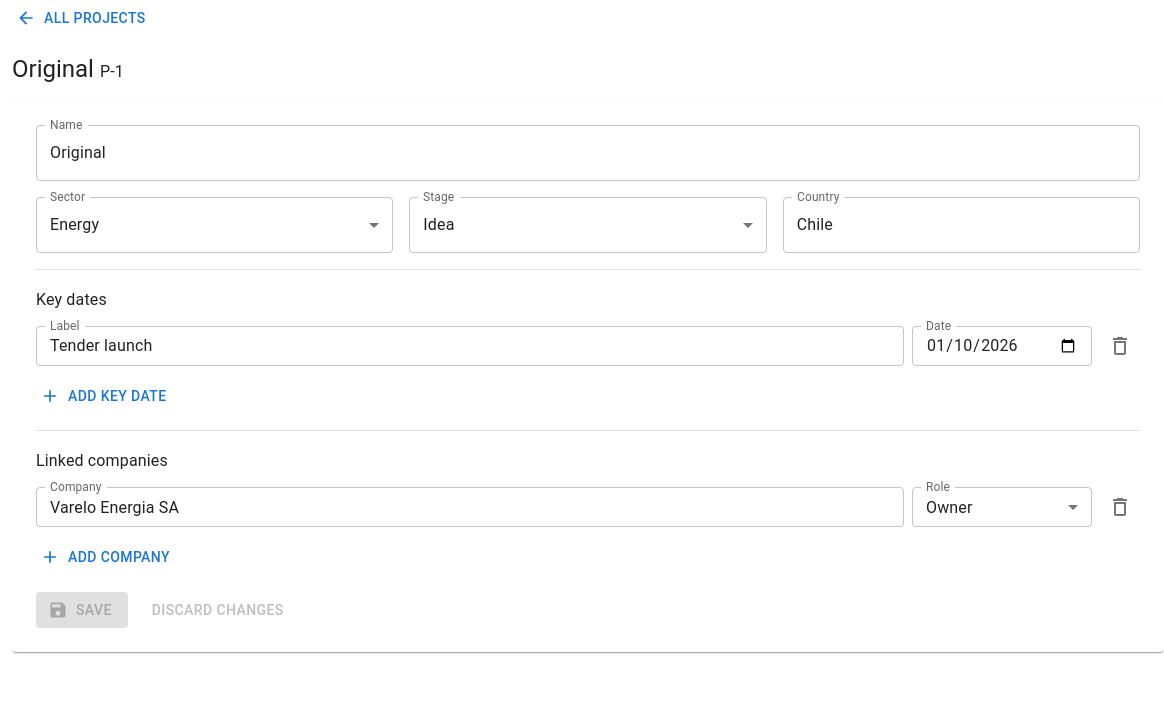
saves base and proposed
Replace the text in the field labelled "Name" with "Renamed" at (588, 152), box [36,124,1140,180]
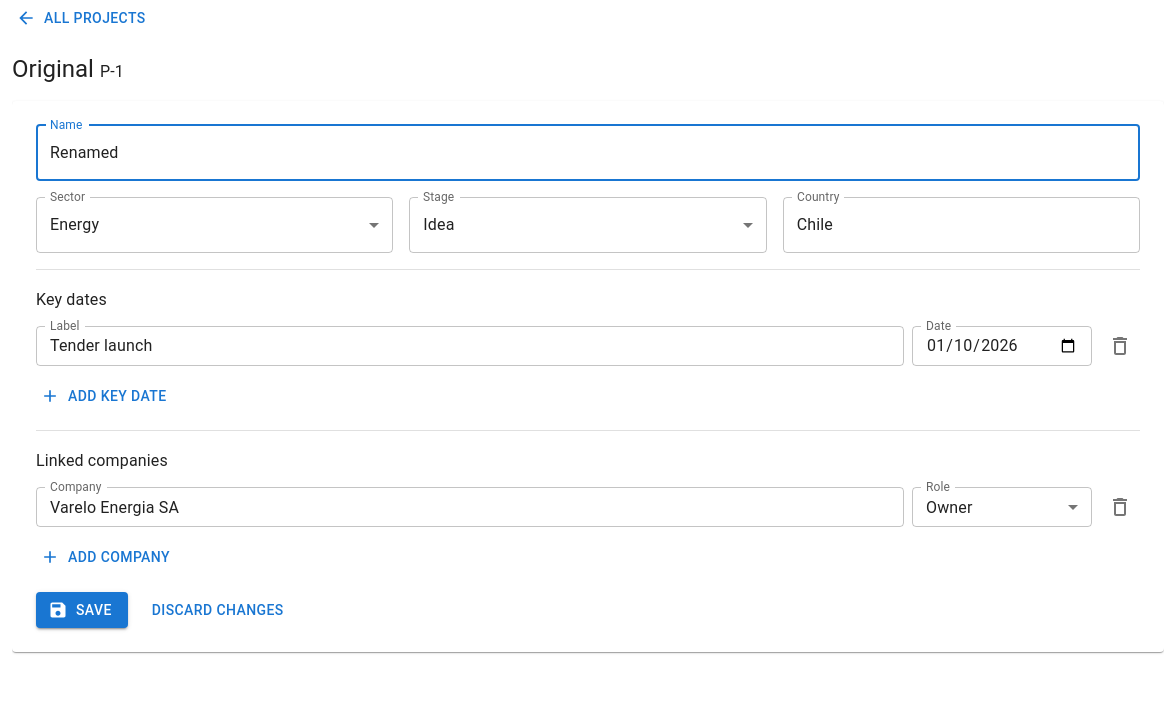
Click the button "Save" at (82, 610), box [36,592,128,628]
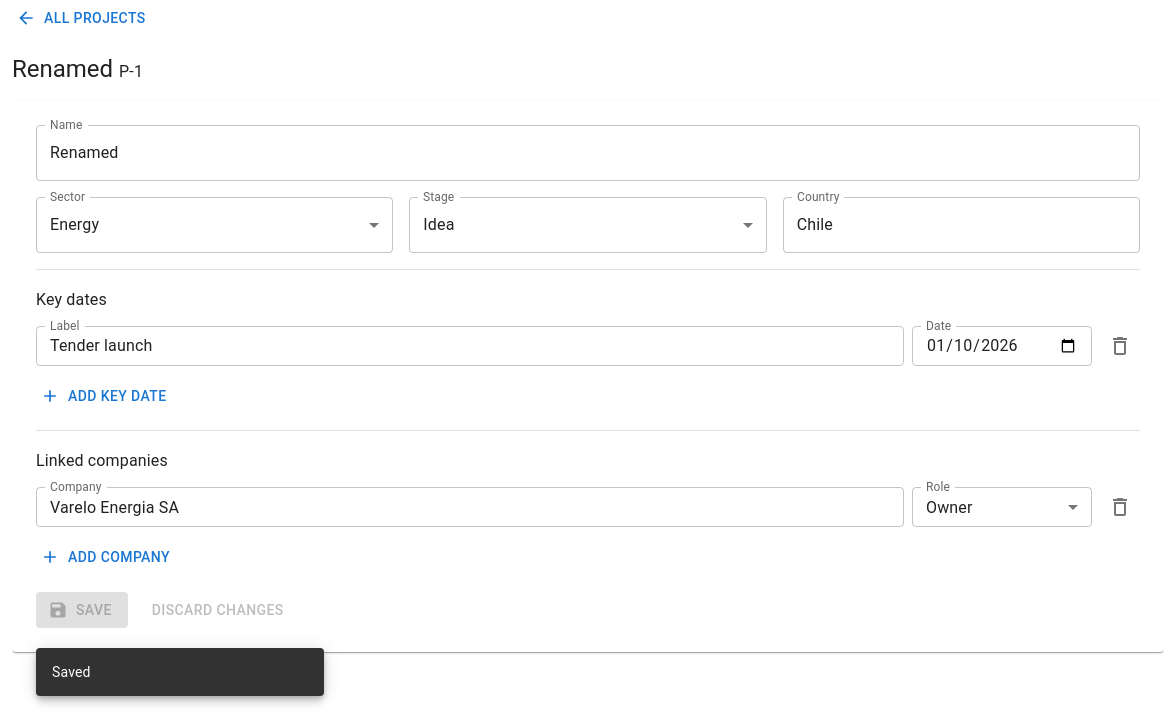
Expected: the text "Saved" is shown, [52,664,91,680]
